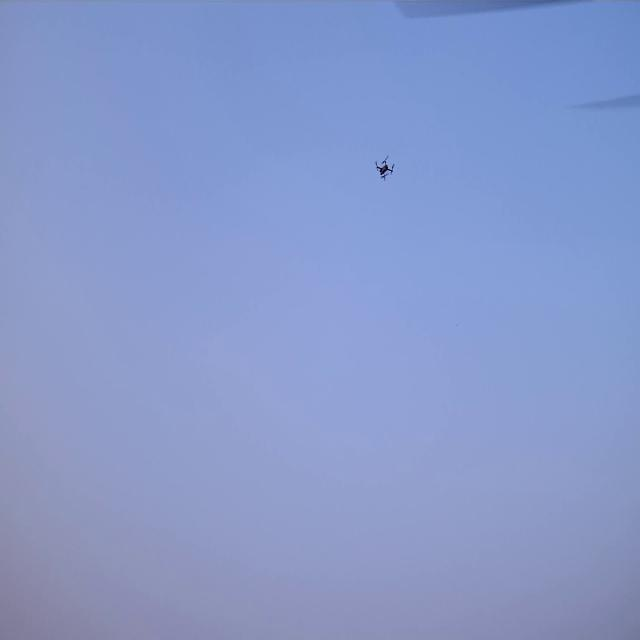UAV: (376, 159, 393, 180)
